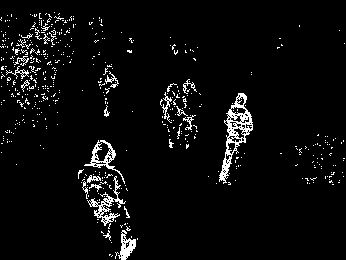person: (79, 143, 139, 260), (226, 91, 253, 187), (184, 79, 204, 152), (95, 63, 117, 121), (165, 83, 182, 145)
